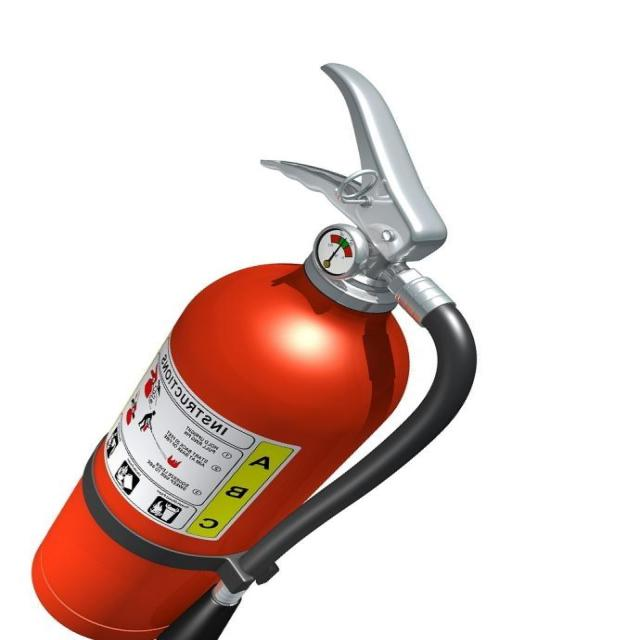fire_extinguisher: (23, 57, 484, 639)
